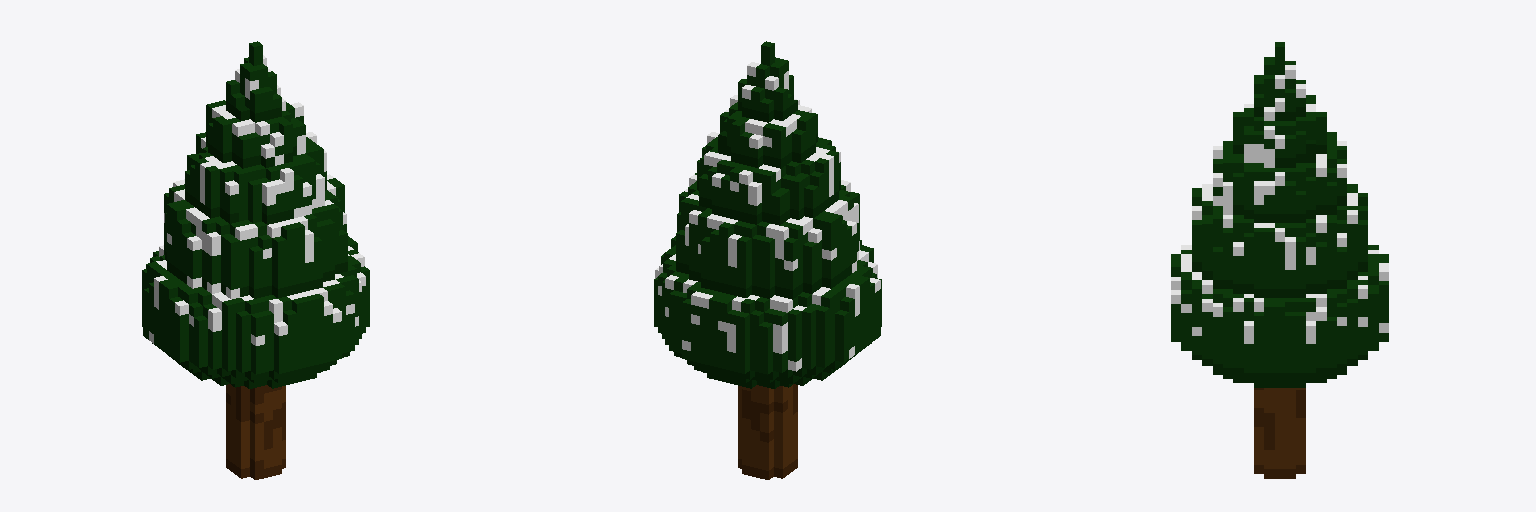
3 renders of one model, left to right at view 1: azimuth 30°, elevation 25°; view 2: azimuth 150°, elevation 25°; view 3: azimuth 270°, elevation 25°, orthographic.
Size of the model in its own units: 21 by 45 by 21.
1 materials, 1 textured.